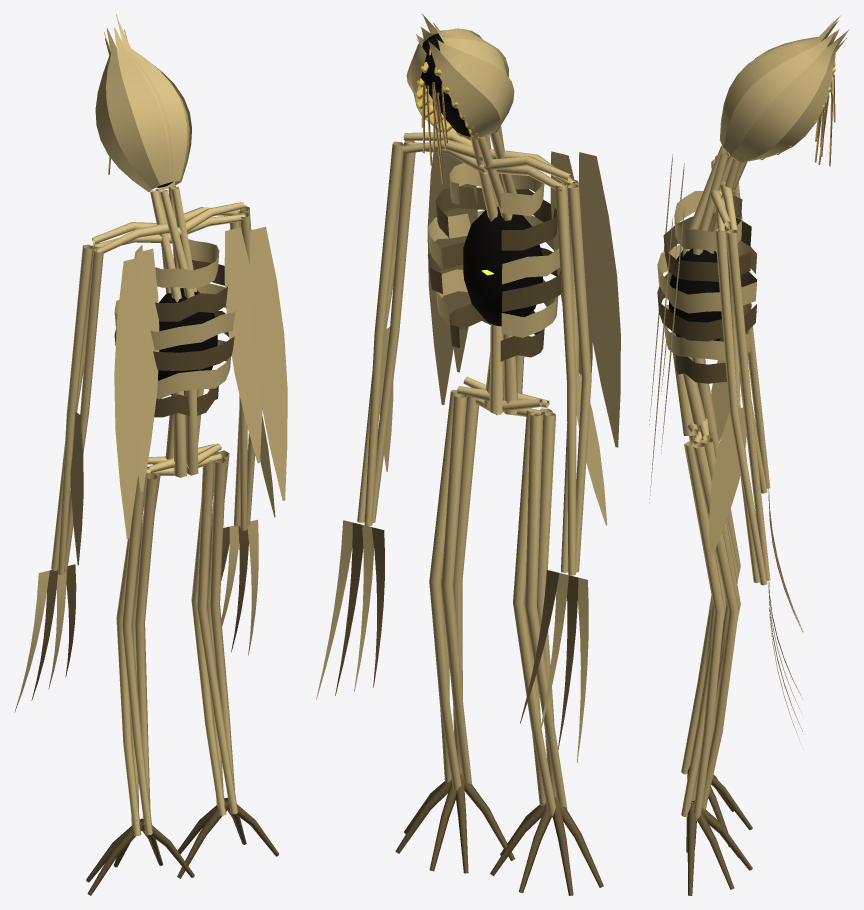
Rendered from husk.glb.
3 renders of one model, left to right at view 1: azimuth 30°, elevation 25°; view 2: azimuth 150°, elevation 25°; view 3: azimuth 270°, elevation 25°, orthographic. The views are drawn at different scales.
Visible parts, largest first — view 1: torso_mesh, leg_0_mesh, leg_1_mesh, head_mesh, arm_0_mesh, arm_1_mesh; view 2: torso_mesh, arm_0_mesh, leg_1_mesh, leg_0_mesh, arm_1_mesh, head_mesh; view 3: torso_mesh, head_mesh, leg_1_mesh, arm_1_mesh, leg_0_mesh, arm_0_mesh.
Part boxes in pixels (x1,y1,x2,y2): torso_mesh: (92, 186, 287, 538); leg_0_mesh: (86, 466, 194, 895); leg_1_mesh: (177, 450, 278, 878); head_mesh: (95, 14, 191, 191); arm_0_mesh: (14, 243, 103, 712); arm_1_mesh: (221, 205, 275, 655); torso_mesh: (402, 126, 620, 447); arm_0_mesh: (520, 180, 607, 762); leg_1_mesh: (395, 389, 514, 873); leg_0_mesh: (490, 408, 603, 895); arm_1_mesh: (316, 140, 415, 699); head_mesh: (406, 14, 514, 183); torso_mesh: (649, 145, 756, 503); head_mesh: (719, 14, 849, 166); leg_1_mesh: (681, 437, 752, 895); arm_1_mesh: (709, 226, 803, 749); leg_0_mesh: (681, 428, 752, 852); arm_0_mesh: (711, 155, 803, 632).
Size of the model in its own units: 0.962 by 3.18 by 0.6878.
